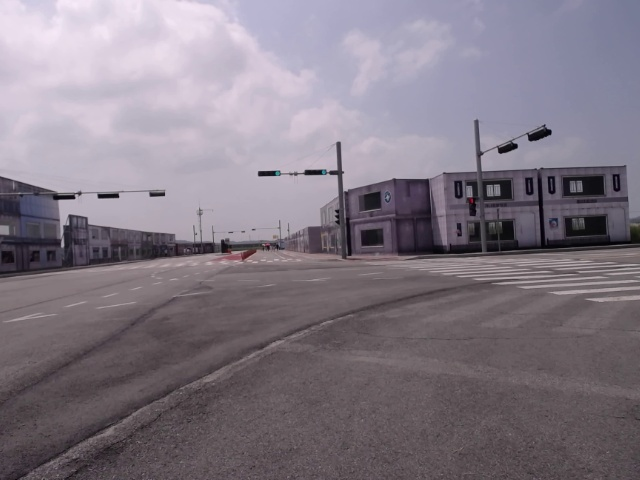straight_green_4: (305, 169, 326, 177), (259, 171, 281, 177)
